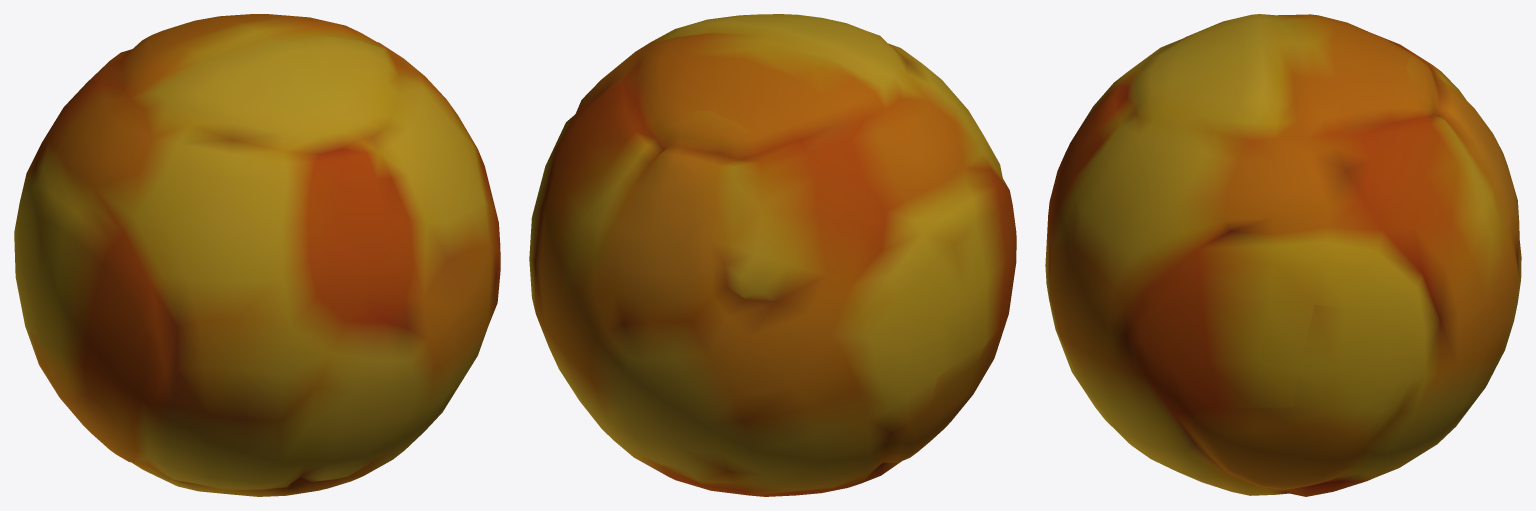
File: 06-6493371-vertex.glb
3 renders of one model, left to right at view 1: azimuth 30°, elevation 25°; view 2: azimuth 150°, elevation 25°; view 3: azimuth 270°, elevation 25°, orthographic.
Visible parts, largest first — view 1: Retopo_neural_node_66871c30-a433-42e4-9f2c-24321f33d3b1; view 2: Retopo_neural_node_66871c30-a433-42e4-9f2c-24321f33d3b1; view 3: Retopo_neural_node_66871c30-a433-42e4-9f2c-24321f33d3b1.
Part boxes in pixels (x1,y1,x2,y2): Retopo_neural_node_66871c30-a433-42e4-9f2c-24321f33d3b1: [14, 14, 500, 496]; Retopo_neural_node_66871c30-a433-42e4-9f2c-24321f33d3b1: [529, 14, 1016, 496]; Retopo_neural_node_66871c30-a433-42e4-9f2c-24321f33d3b1: [1045, 14, 1521, 496].
Size of the model in its own units: 0.4834 by 0.4852 by 0.4864.
